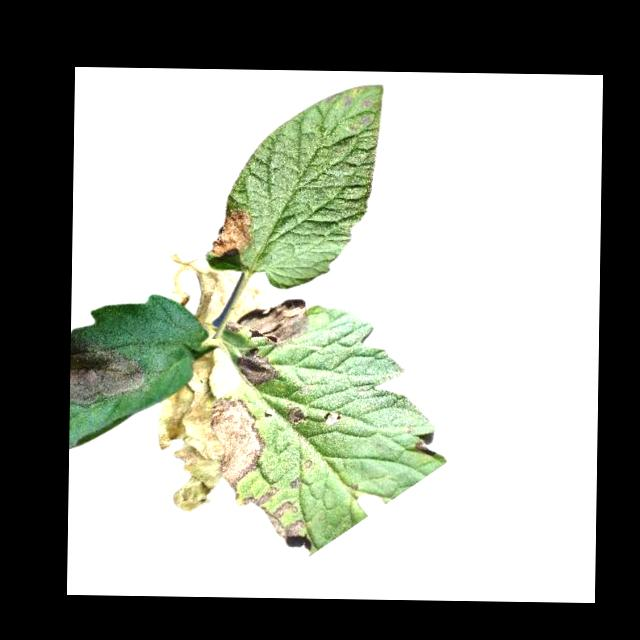Late_blight: (153, 349, 232, 514), (163, 256, 239, 326), (210, 394, 264, 491), (70, 342, 145, 402), (236, 486, 305, 540), (231, 297, 308, 342), (208, 209, 254, 257), (232, 279, 277, 323), (235, 345, 276, 387), (286, 401, 306, 425), (414, 439, 434, 457)
